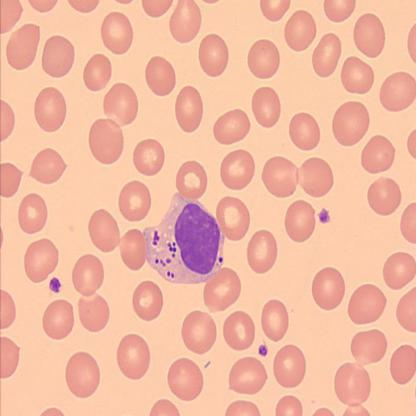Lymphocyte: (143, 192, 227, 286)
